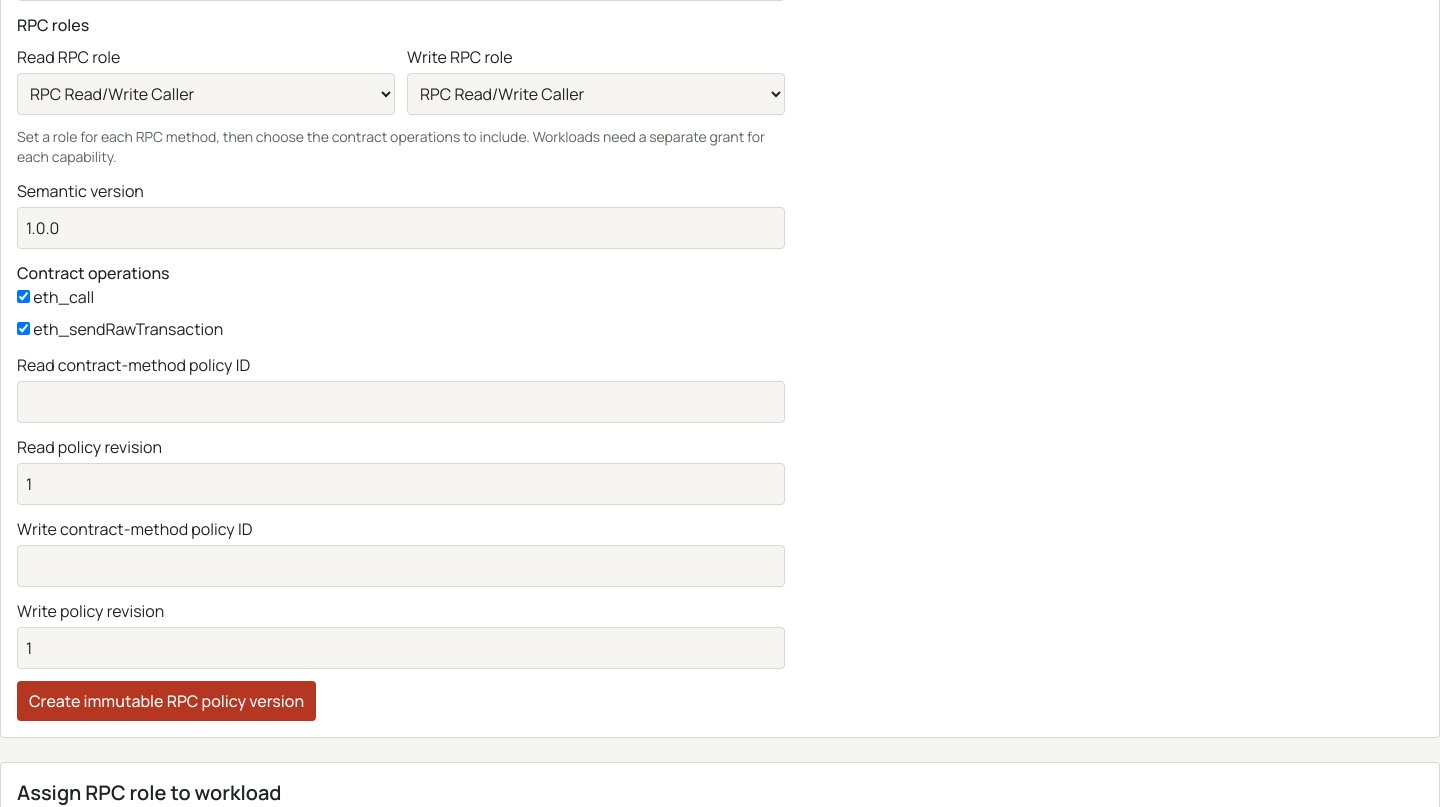
uses producer URNs and module bindings and preserves the policy command
(page scrolled)
Type "018f0000-0000-7000-8000-000000000701" into the field labelled "Read contract-method policy ID".
click(401, 402); type("018f0000-0000-7000-8000-000000000701")  # box top-left (17, 381), bottom-right (785, 423)
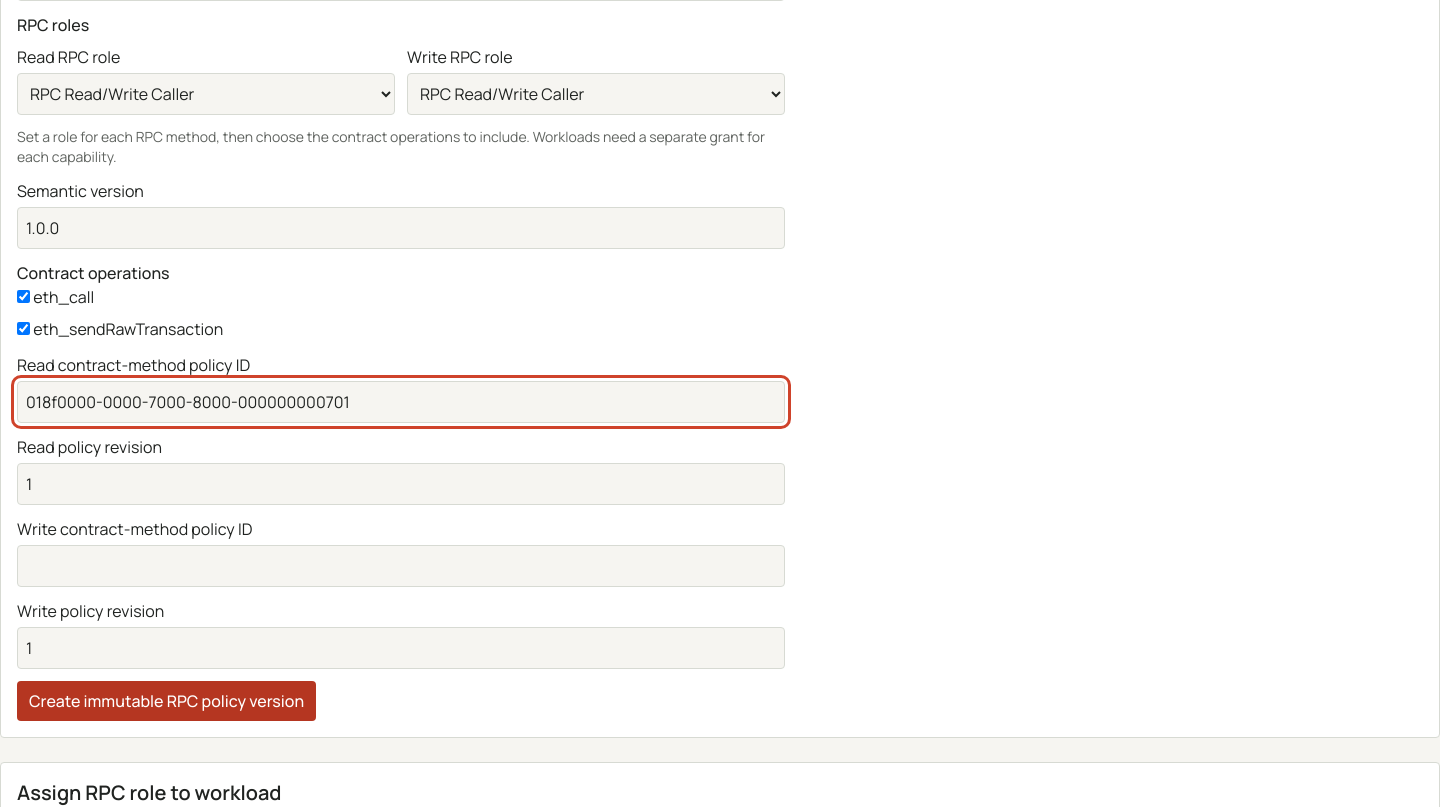
Type "018f0000-0000-7000-8000-000000000702" into the field labelled "Write contract-method policy ID".
click(401, 566); type("018f0000-0000-7000-8000-000000000702")  # box top-left (17, 545), bottom-right (785, 587)
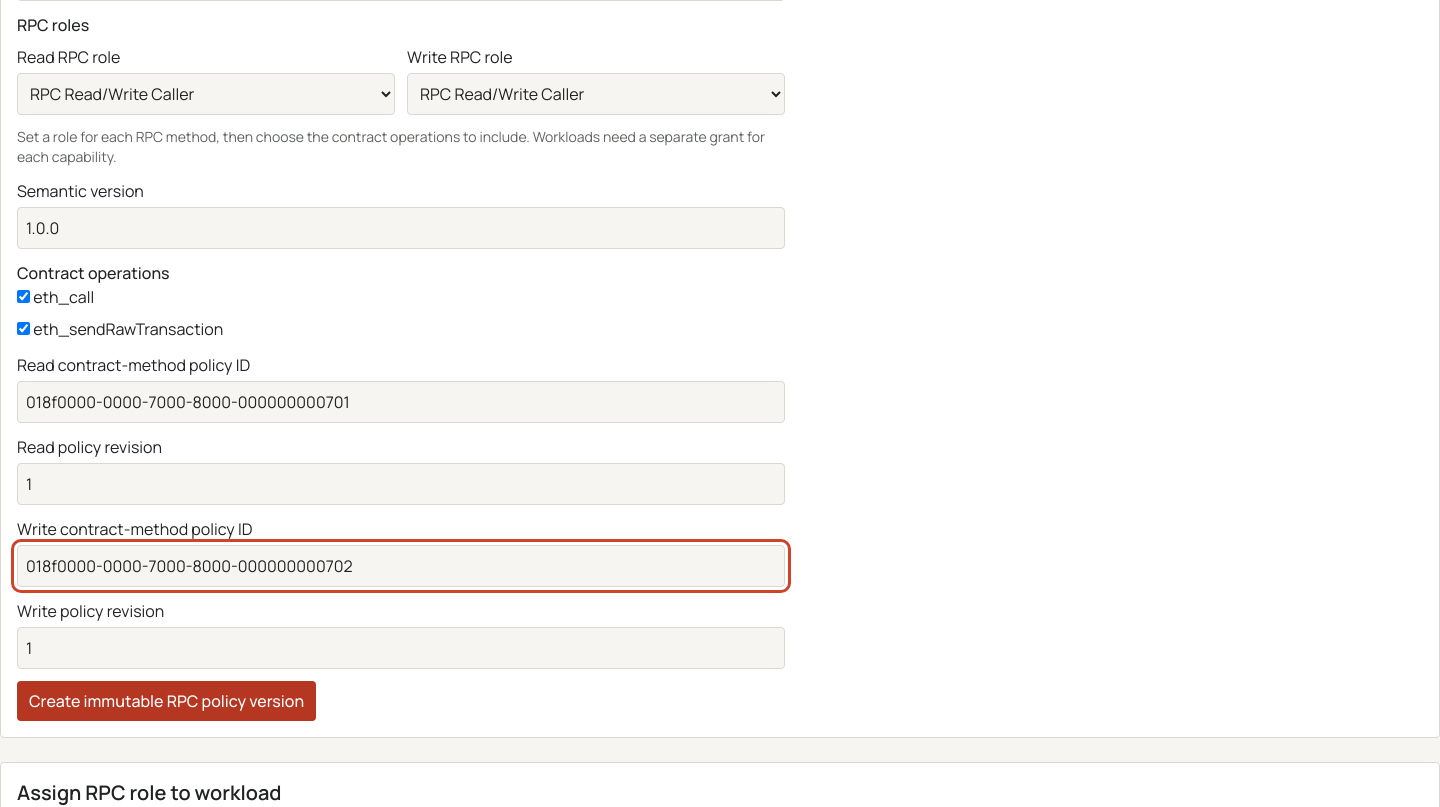
Click the button "Create immutable RPC policy version".
click(167, 701)  # box top-left (17, 681), bottom-right (316, 721)
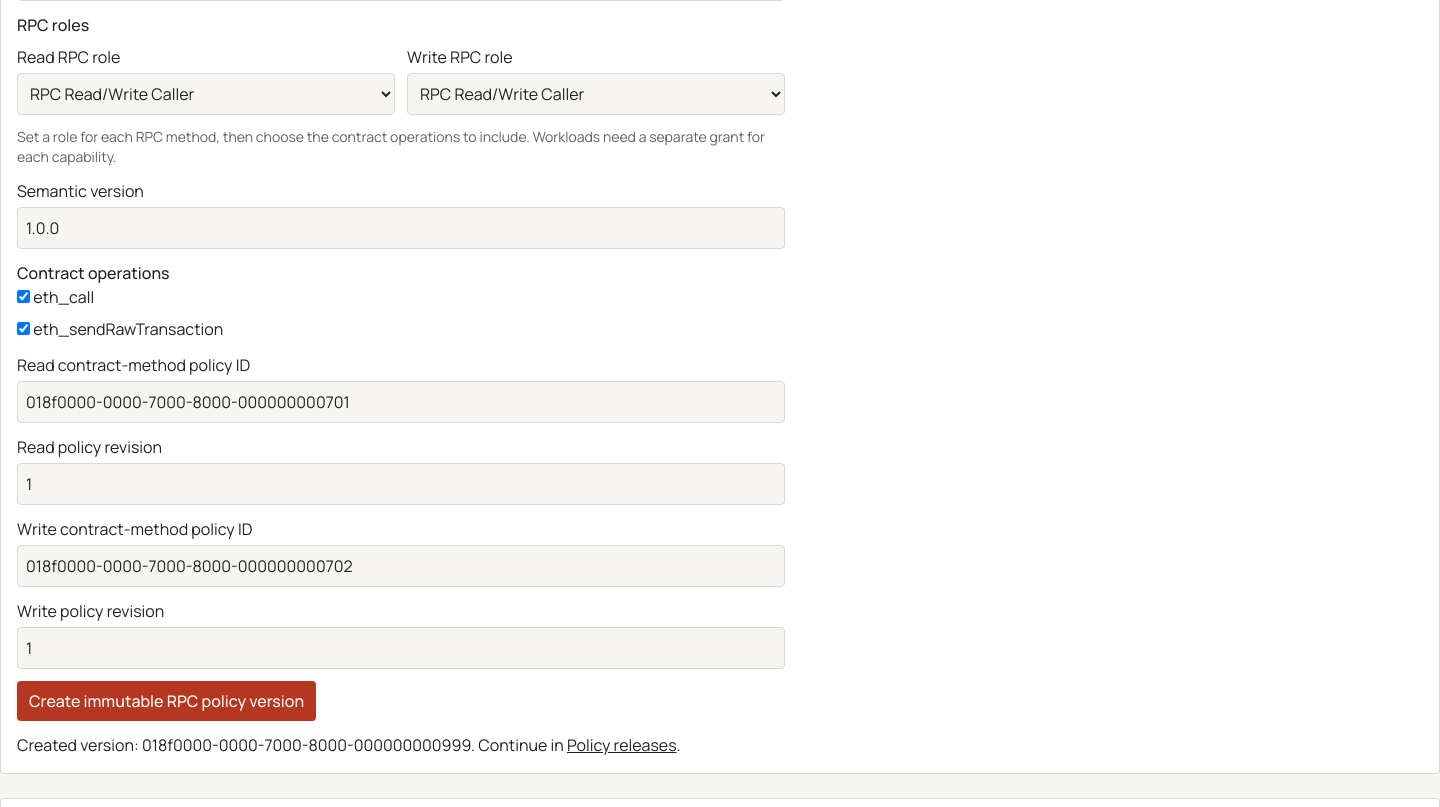
Result: the text "Created version:" shows "018f0000-0000-7000-8000-000000000999" at top-left (142, 734), bottom-right (471, 756)
